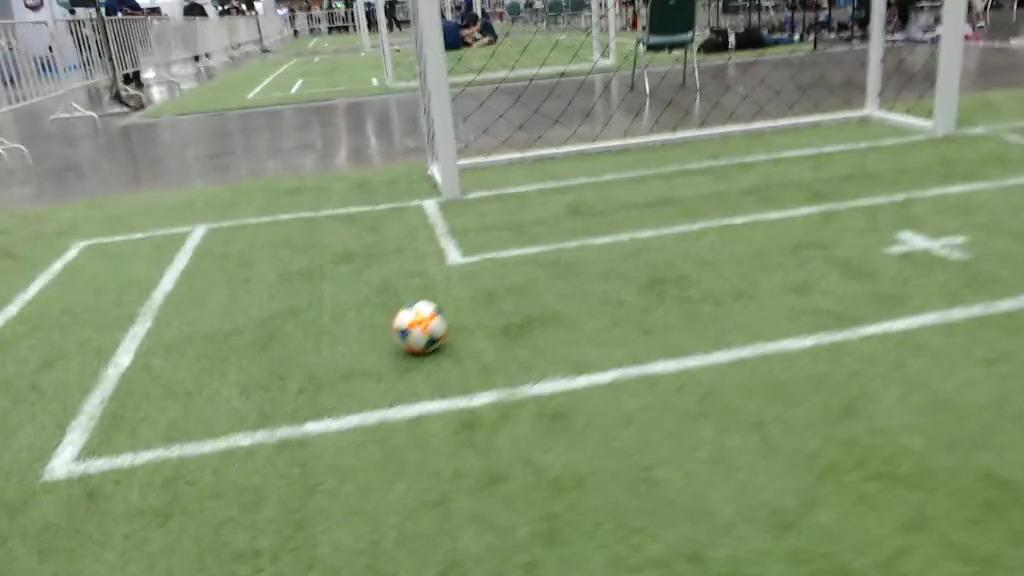ball: (392, 301, 447, 357)
